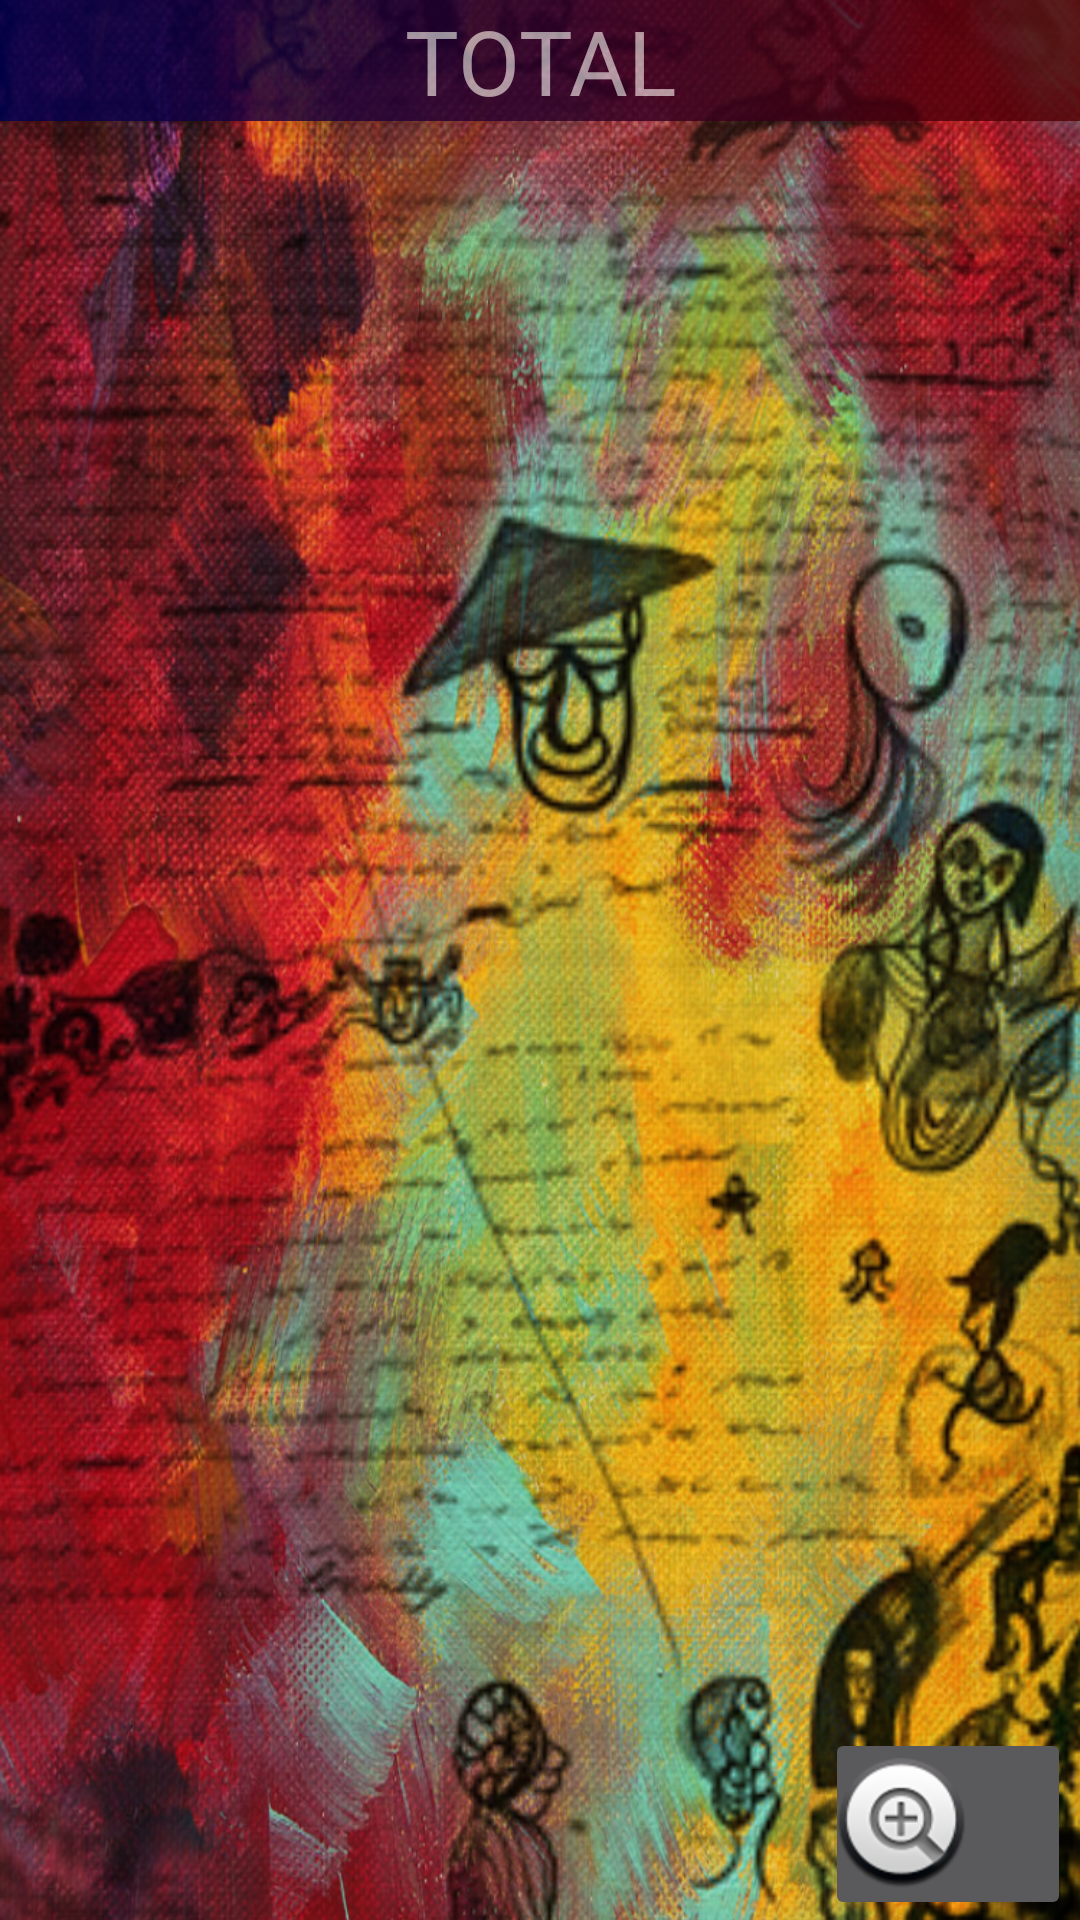

Icons on this 1080w x 1920h Android screen, each with the point to tap as [x,y]:
plus: [948,1824]
